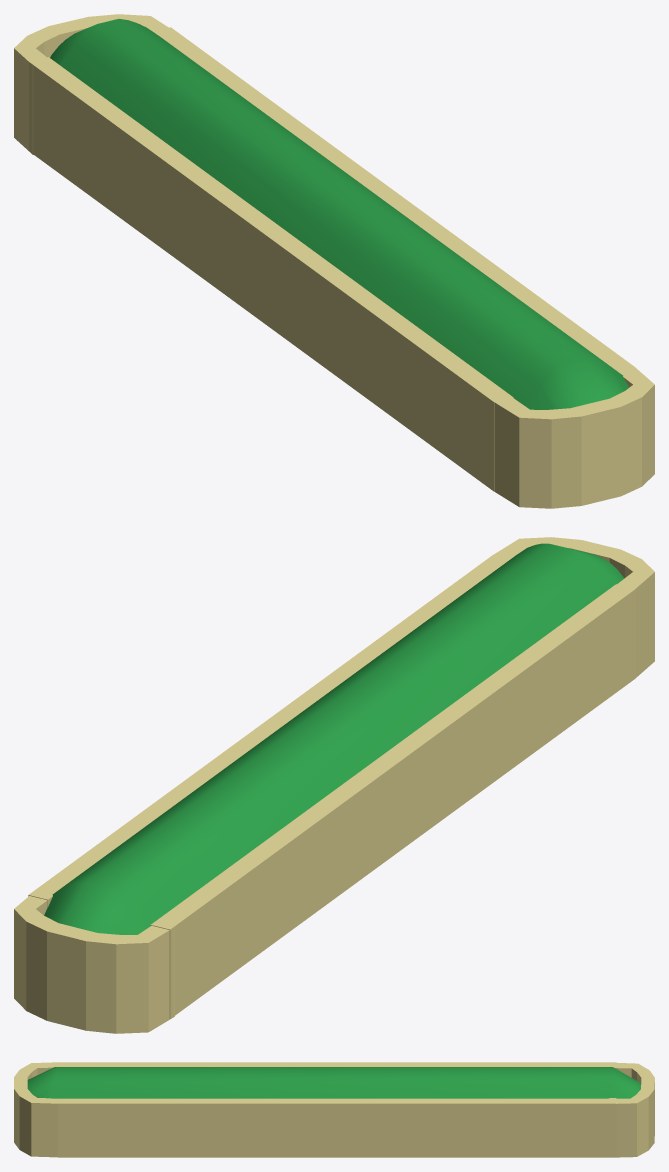
Rendered from divider.fbx.
The picture shows the model from 3 angles, top to bottom: view 1: azimuth 30°, elevation 25°; view 2: azimuth 150°, elevation 25°; view 3: azimuth 270°, elevation 25°; orthographic projection. The views are drawn at different scales.
Visible parts, largest first — view 1: Plane, Cube, Cube.002, Cube.001, Cube.003; view 2: Plane, Cube, Cube.003, Cube.001, Cube.002; view 3: Cube.001, Plane, Cube.002, Cube.003, Cube.
Part boxes in pixels (<box>): Plane: <box>50,19,628,409</box>; Cube: <box>29,57,513,491</box>; Cube.002: <box>494,367,654,508</box>; Cube.001: <box>153,27,635,371</box>; Cube.003: <box>14,14,168,154</box>; Plane: <box>44,543,624,934</box>; Cube: <box>150,584,635,1018</box>; Cube.003: <box>14,896,174,1033</box>; Cube.001: <box>28,554,510,906</box>; Cube.002: <box>494,537,654,677</box>; Cube.001: <box>58,1098,616,1157</box>; Plane: <box>27,1067,641,1098</box>; Cube.002: <box>14,1062,57,1157</box>; Cube.003: <box>616,1062,654,1157</box>; Cube: <box>58,1062,616,1068</box>.
Bounding box in the file's own units: 332 × 253 × 2163.
